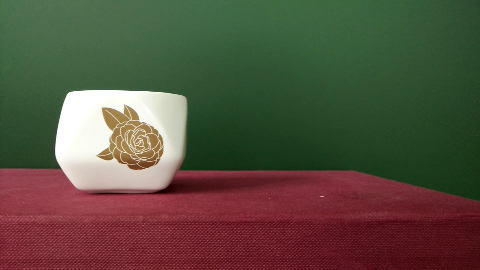flower: (92, 99, 167, 173)
